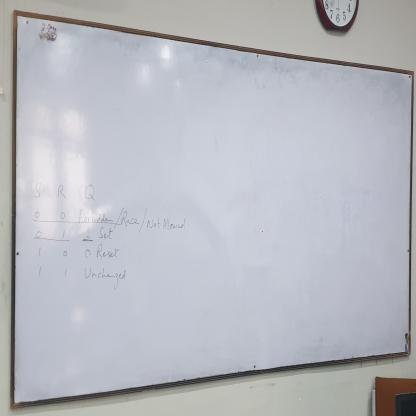Handwritten text: (31, 168, 101, 205), (81, 263, 133, 296), (144, 211, 189, 239), (77, 204, 115, 227), (93, 222, 121, 244), (94, 243, 121, 263), (120, 208, 141, 233)
Whiteboard: (10, 13, 415, 409)
